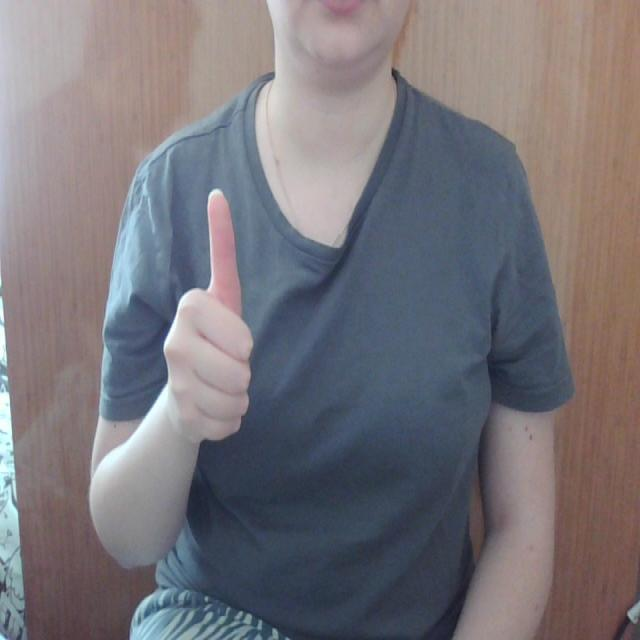Tamam: (158, 179, 260, 452)
